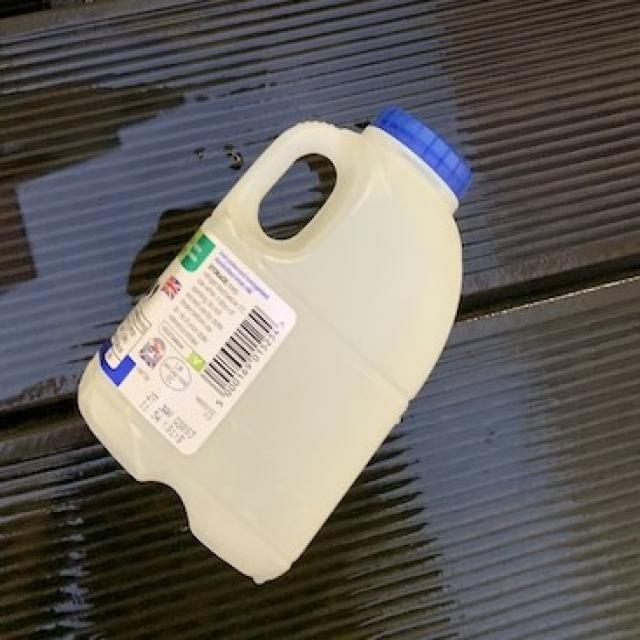HDPE Plastic: (70, 100, 480, 588)
